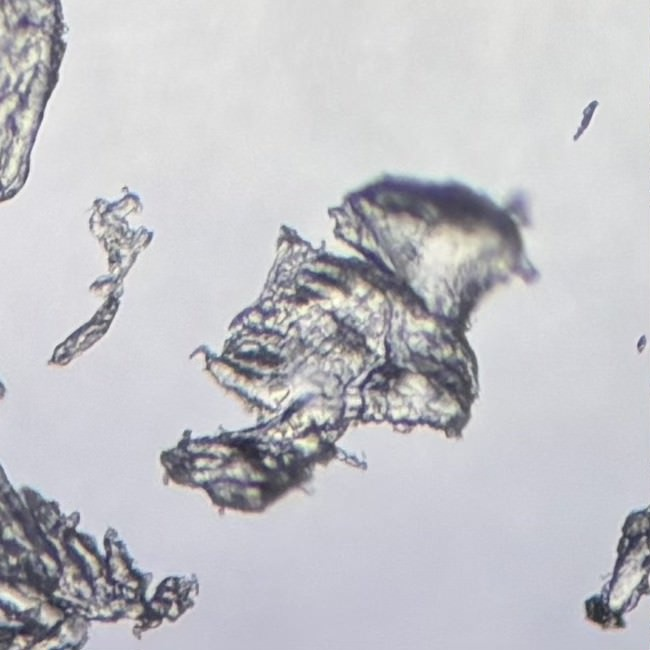microplastic: (156, 168, 541, 518), (1, 455, 205, 650), (48, 185, 153, 371), (1, 1, 70, 203), (583, 505, 650, 630), (569, 99, 599, 142)
